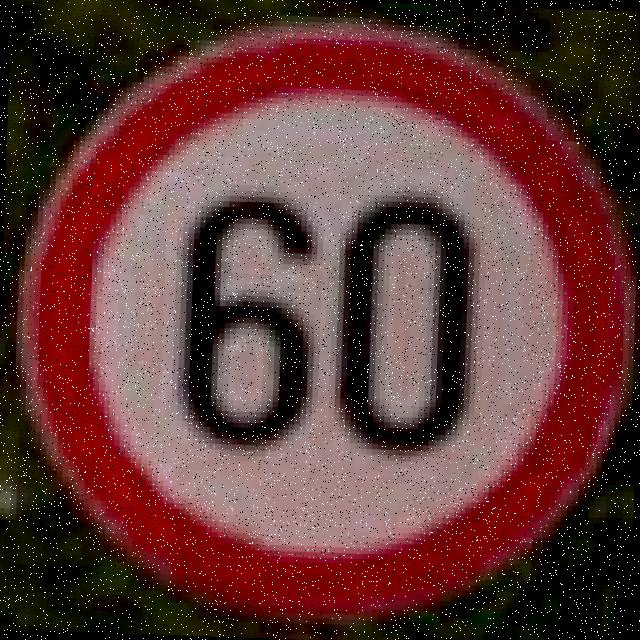Ograniczenie predkosci do 60: (1, 11, 640, 628)
